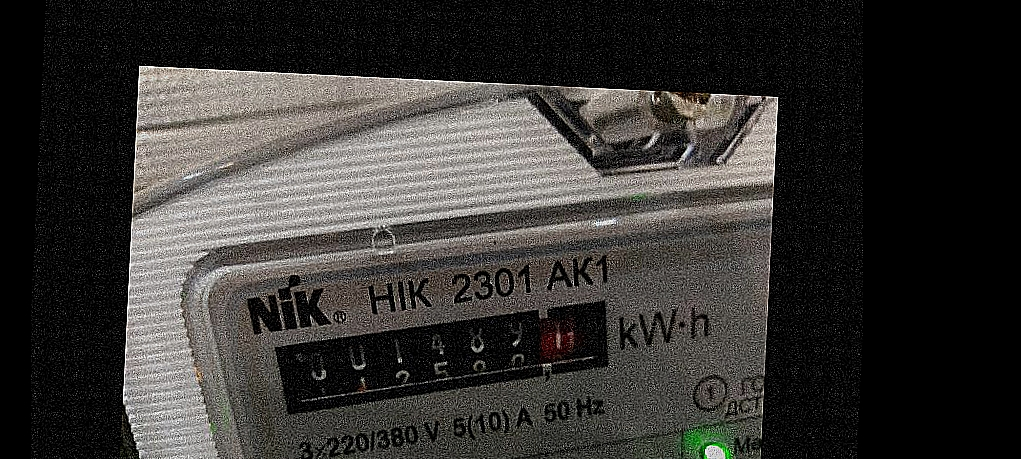0: (343, 335, 371, 373), (304, 348, 330, 384)
1: (547, 313, 568, 352), (387, 334, 409, 366)
4: (426, 325, 449, 358)
8: (466, 319, 489, 356)
9: (505, 315, 527, 348)
screen: (259, 274, 641, 443)
